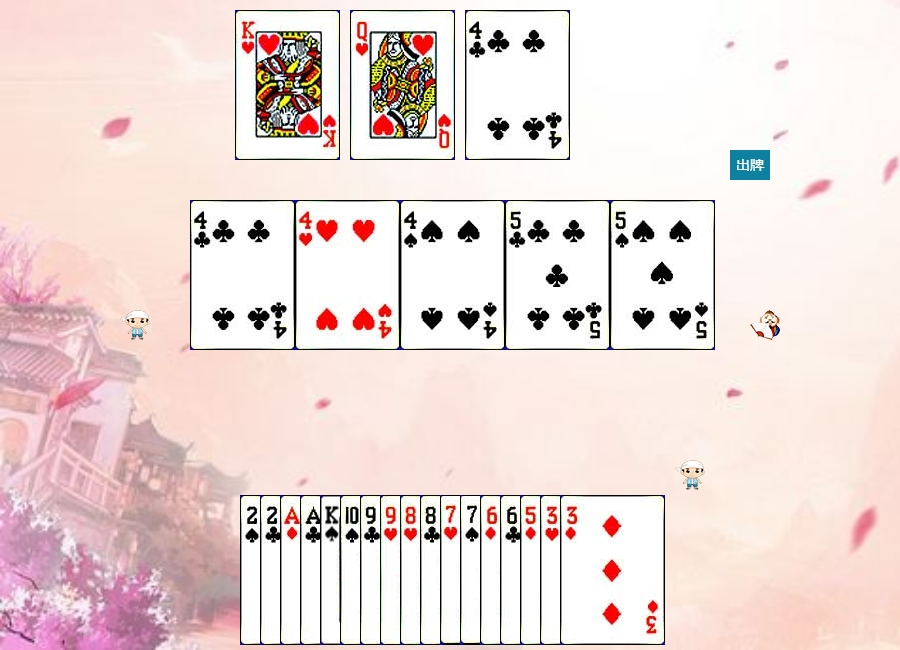10~4: (340, 495, 445, 645)
12~3: (350, 10, 455, 160)
13~3: (235, 10, 340, 160)
13~4: (320, 495, 425, 645)
14~1: (280, 495, 385, 645)
14~2: (300, 495, 405, 645)
15~2: (260, 495, 365, 645)
15~4: (240, 495, 345, 645)
3~1: (560, 495, 665, 645)
3~3: (540, 495, 645, 645)
4~2: (465, 10, 570, 160), (190, 200, 295, 350)
4~3: (295, 200, 400, 350)
4~4: (400, 200, 505, 350)
5~1: (520, 495, 625, 645)
5~2: (505, 200, 610, 350)
5~4: (610, 200, 715, 350)
6~1: (480, 495, 585, 645)
6~2: (500, 495, 605, 645)
7~3: (440, 495, 545, 645)
7~4: (460, 495, 565, 645)
8~2: (420, 495, 525, 645)
8~3: (400, 495, 505, 645)
9~2: (360, 495, 465, 645)
9~3: (380, 495, 485, 645)
